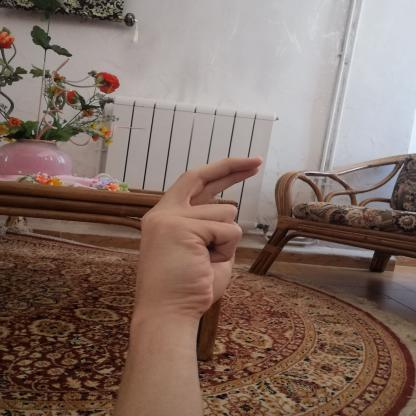ZAY: (119, 149, 275, 326)
